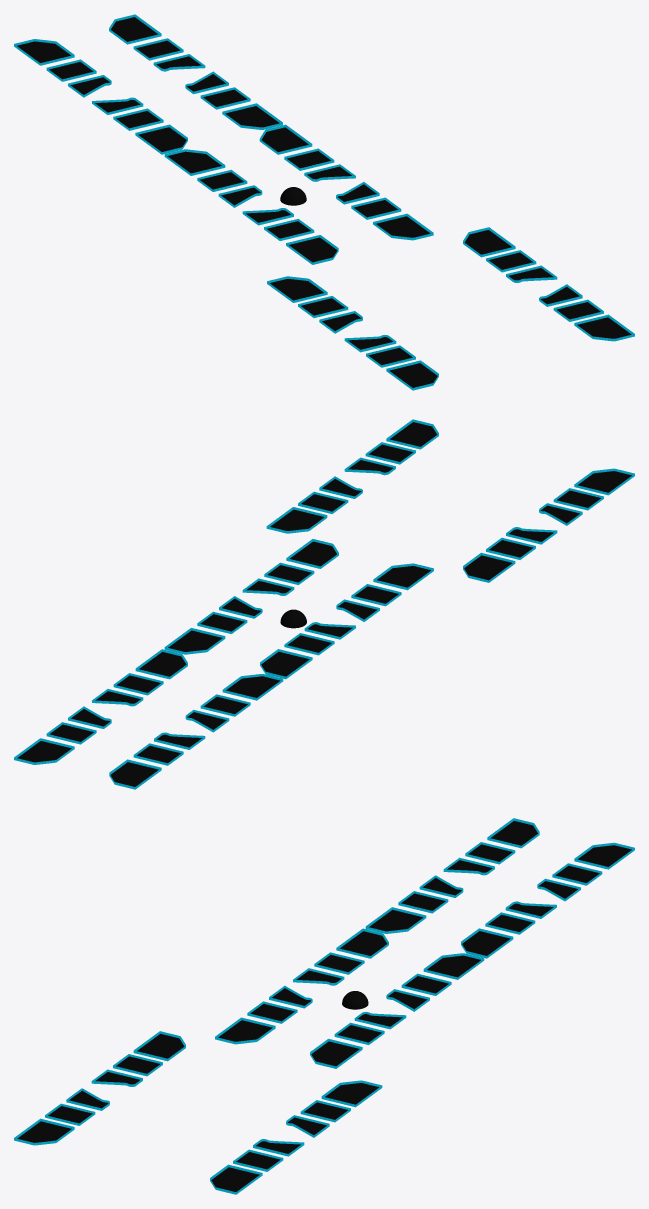
The model's file is ceellinglights.fbx.
3 views of the same model, one above another, from view 1: azimuth 30°, elevation 25°; view 2: azimuth 150°, elevation 25°; view 3: azimuth 330°, elevation 25° (orthographic).
Visible parts, largest first — view 1: ceelinglight24, ceelinglight26, ceelinglight5, ceelinglight10, ceelinglight13, ceelinglight15, ceelinglight35, ceelinglight23, ceelinglight1, ceelinglight11, ceelinglight21, ceelinglight25 (+24 smaller); view 2: ceelinglight23, ceelinglight11, ceelinglight35, ceelinglight1, ceelinglight25, ceelinglight21, ceelinglight10, ceelinglight26, ceelinglight5, ceelinglight15, ceelinglight13, ceelinglight24 (+24 smaller); view 3: ceelinglight23, ceelinglight1, ceelinglight25, ceelinglight35, ceelinglight11, ceelinglight21, ceelinglight5, ceelinglight15, ceelinglight10, ceelinglight26, ceelinglight13, ceelinglight24 (+24 smaller).
Part boxes in pixels (x1,y1,x2,y2): ceelinglight24: (373, 213, 433, 240); ceelinglight26: (164, 149, 225, 175); ceelinglight5: (14, 39, 74, 65); ceelinglight10: (222, 103, 282, 129); ceelinglight13: (267, 276, 327, 302); ceelinglight15: (574, 314, 634, 341); ceelinglight35: (109, 14, 161, 44); ceelinglight23: (463, 227, 515, 257); ceelinglight1: (135, 124, 187, 154); ceelinglight11: (259, 124, 312, 154); ceelinglight21: (386, 360, 438, 390); ceelinglight25: (286, 235, 338, 264); ceelinglight23: (266, 507, 327, 533); ceelinglight11: (164, 628, 225, 654); ceelinglight35: (14, 738, 74, 764); ceelinglight1: (222, 674, 283, 700); ceelinglight25: (373, 563, 433, 590); ceelinglight21: (574, 468, 634, 495); ceelinglight10: (135, 649, 187, 679); ceelinglight26: (260, 649, 312, 679); ceelinglight5: (109, 759, 161, 789); ceelinglight15: (386, 419, 438, 449); ceelinglight13: (463, 552, 515, 582); ceelinglight24: (286, 539, 338, 568); ceelinglight23: (321, 1080, 382, 1107); ceelinglight1: (365, 907, 426, 933); ceelinglight25: (215, 1017, 275, 1044); ceelinglight35: (574, 842, 634, 869); ceelinglight11: (423, 953, 484, 979); ceelinglight21: (14, 1118, 74, 1145); ceelinglight5: (487, 818, 539, 848); ceelinglight15: (210, 1164, 262, 1194); ceelinglight10: (461, 928, 513, 958); ceelinglight26: (336, 928, 388, 958); ceelinglight13: (133, 1031, 185, 1061); ceelinglight24: (310, 1039, 362, 1068).
Size of the model in its own units: 973 by 50.69 by 3406.
